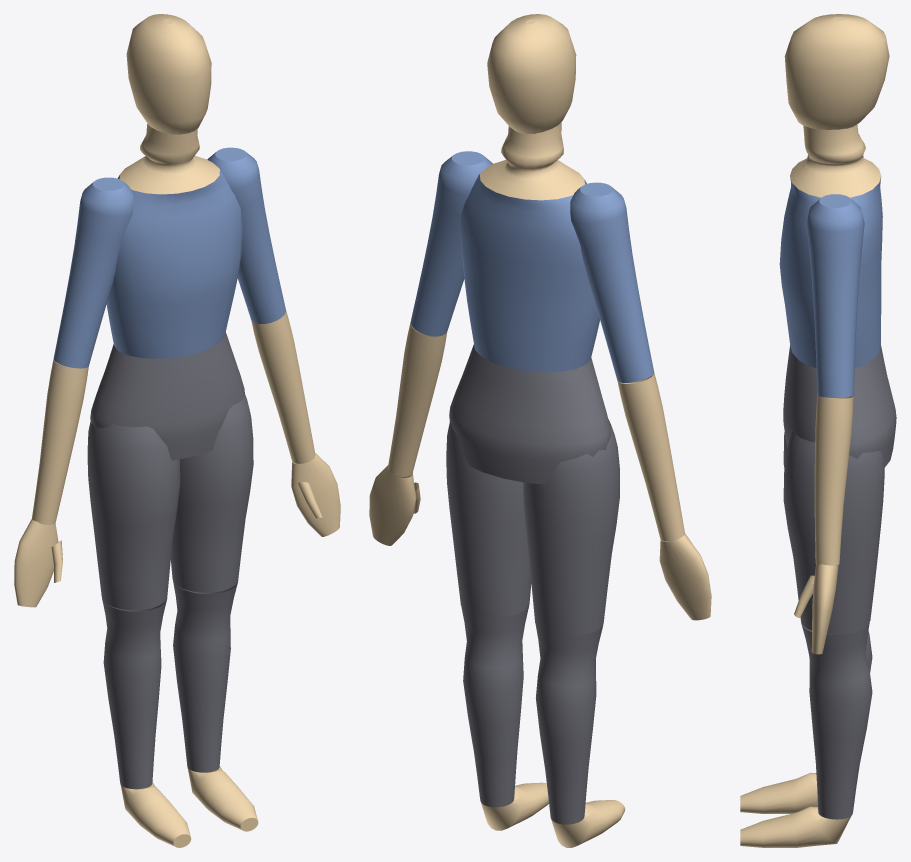
Rendered from base_female.glb.
3 views of the same model, side by side, from view 1: azimuth 30°, elevation 25°; view 2: azimuth 150°, elevation 25°; view 3: azimuth 270°, elevation 25° (orthographic). The views are drawn at different scales.
Visible parts, largest first — view 1: base_female; view 2: base_female; view 3: base_female.
Boxes of the visible parts, bbox=[...] form: base_female: bbox=[14, 14, 340, 847]; base_female: bbox=[369, 14, 711, 847]; base_female: bbox=[740, 14, 896, 847].
Bounding box in the file's own units: 0.7272 × 1.67 × 0.292.
